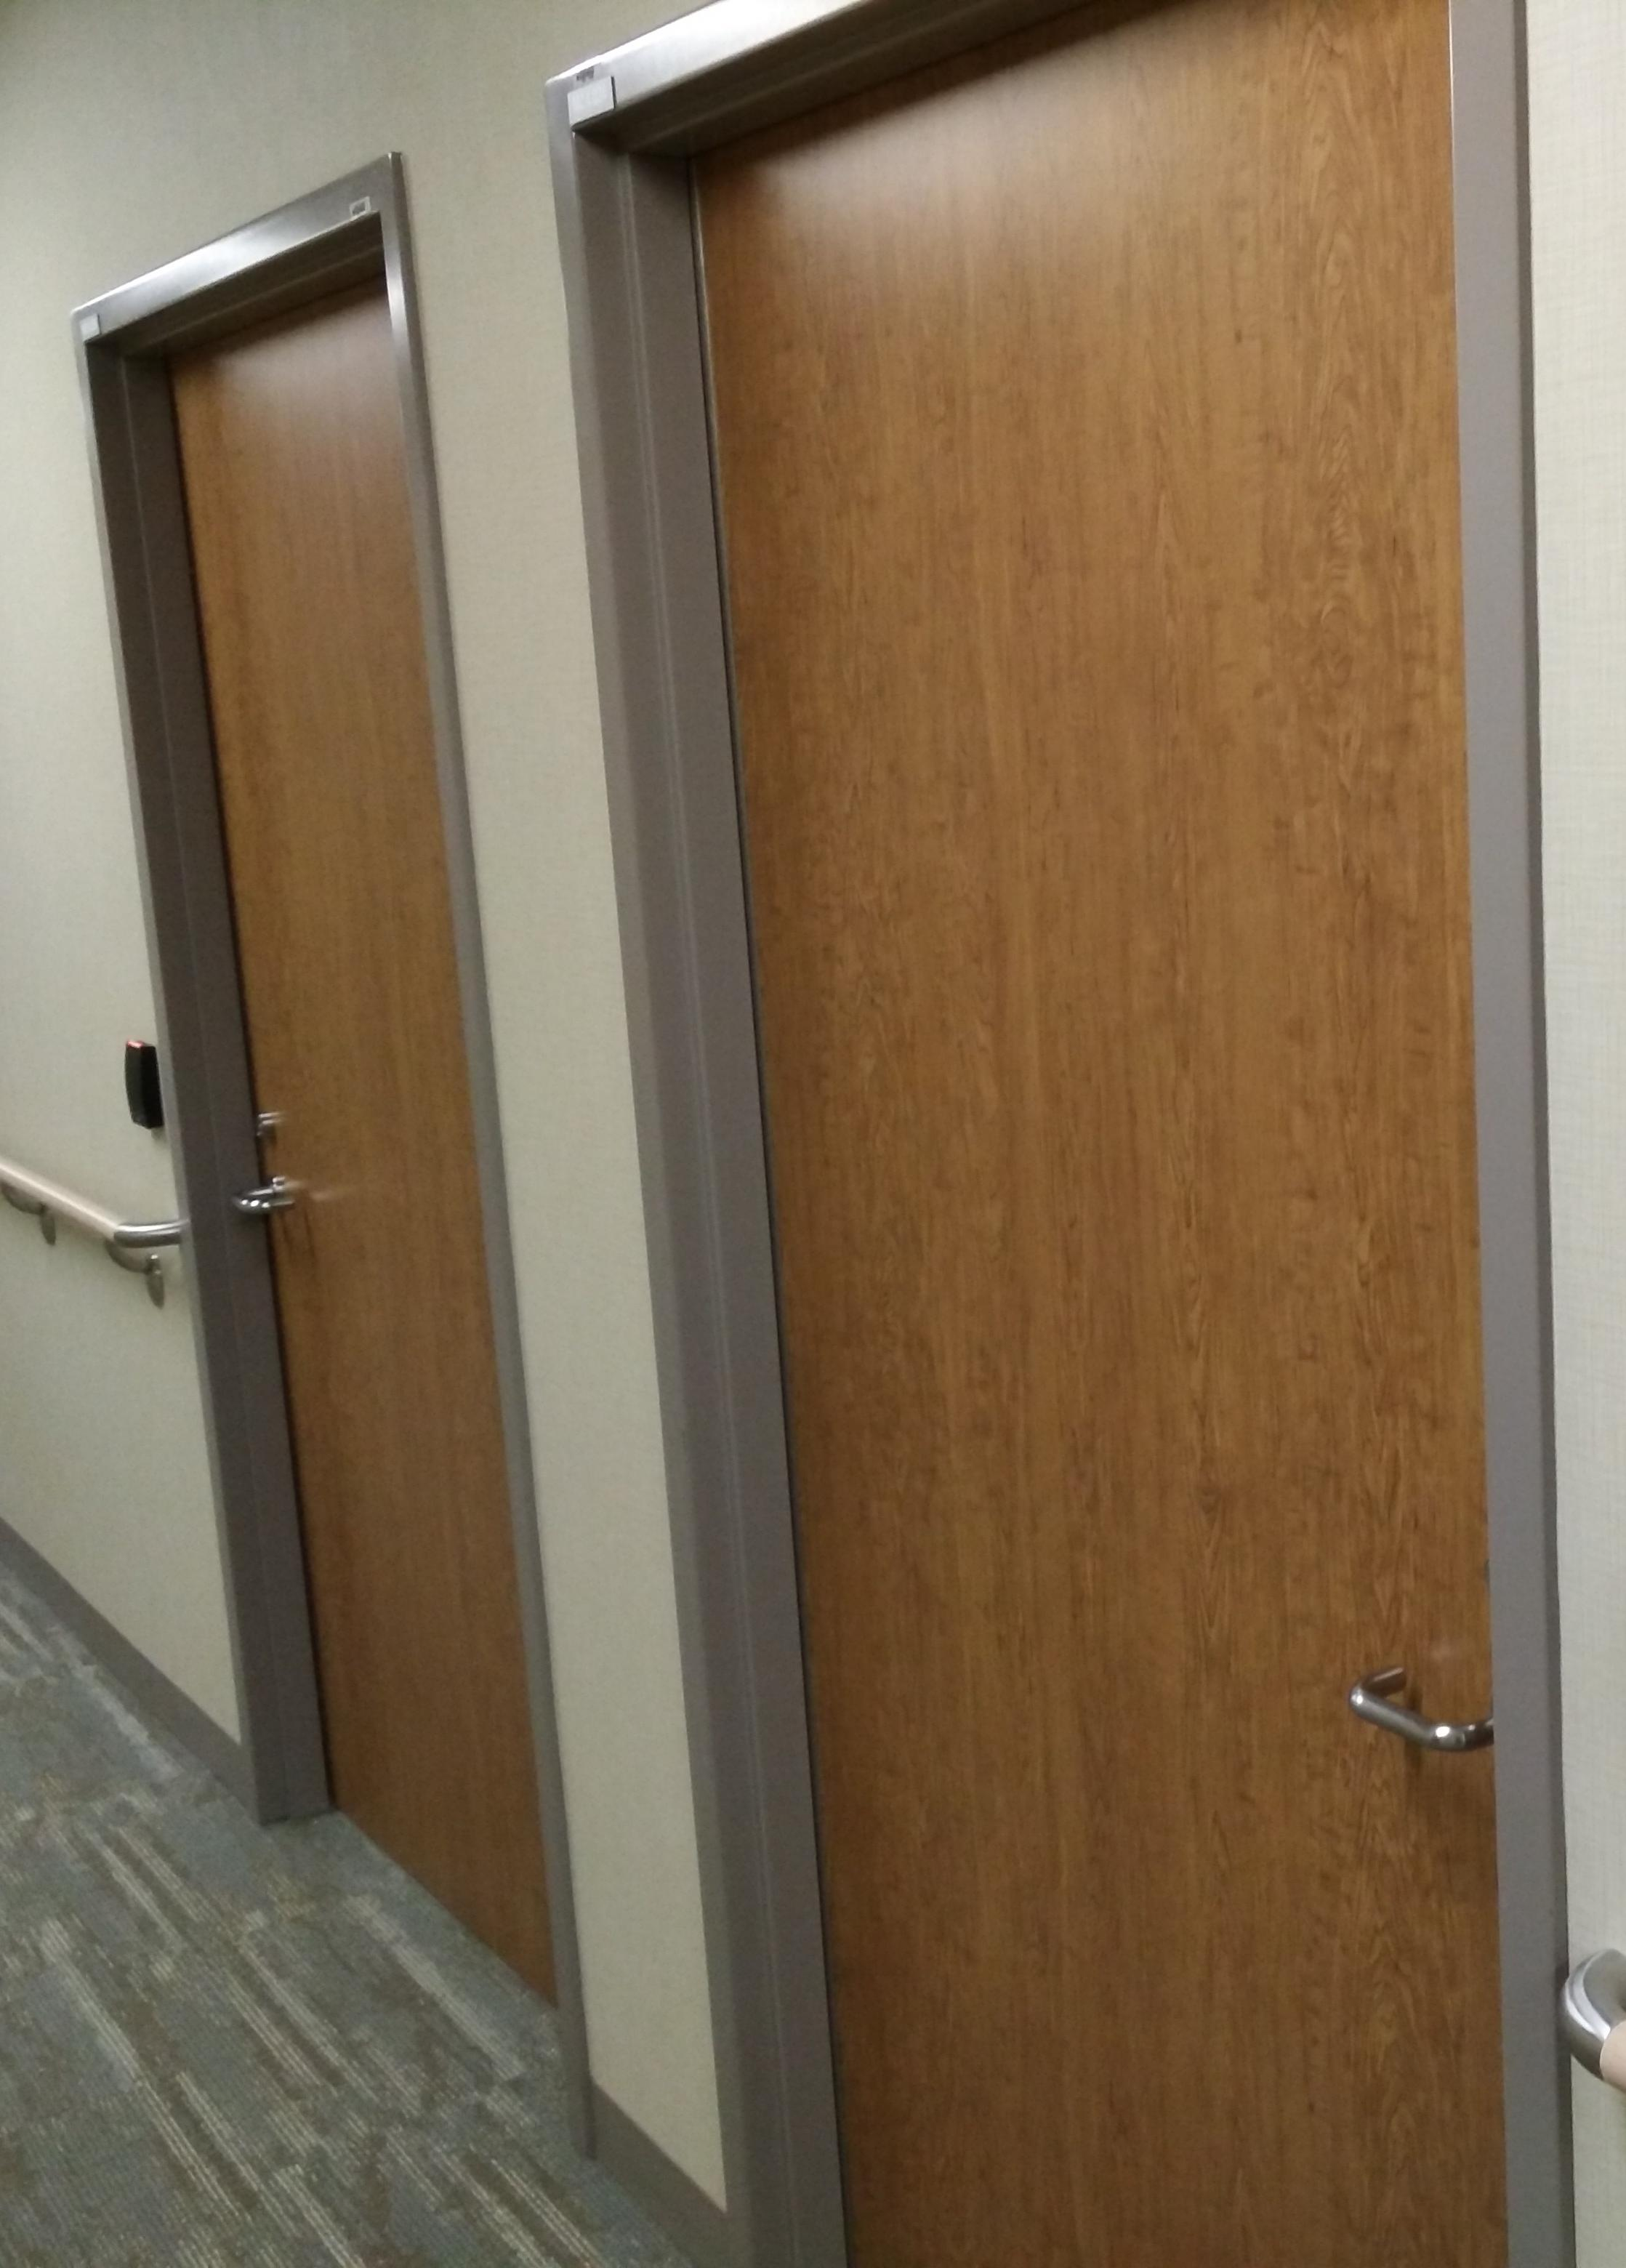door: (653, 4, 1489, 2268), (60, 283, 524, 1934)
